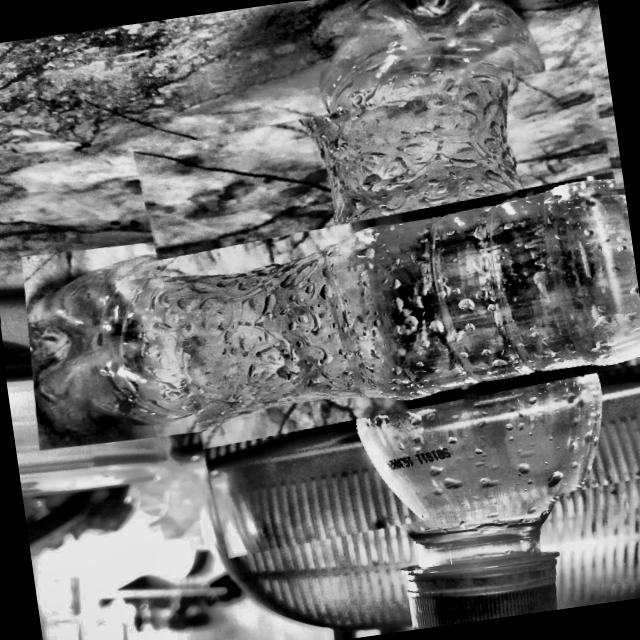Plastic-Bottle: (123, 57, 640, 568)
